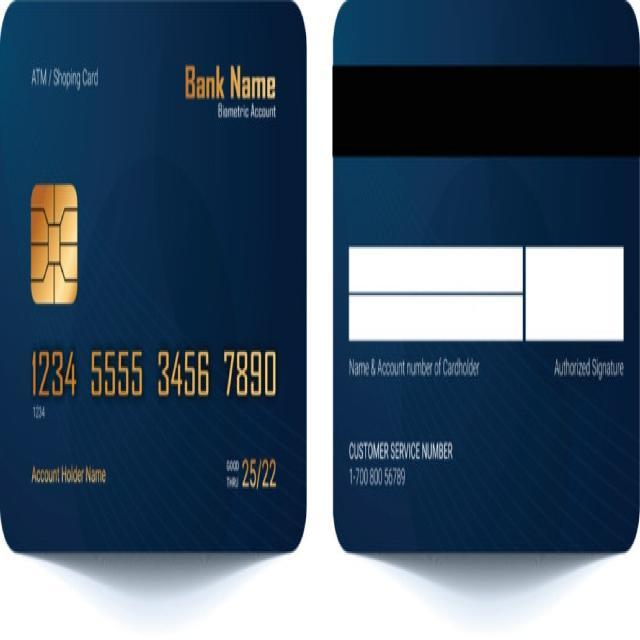payment_card: (332, 0, 640, 556), (0, 0, 307, 554)
